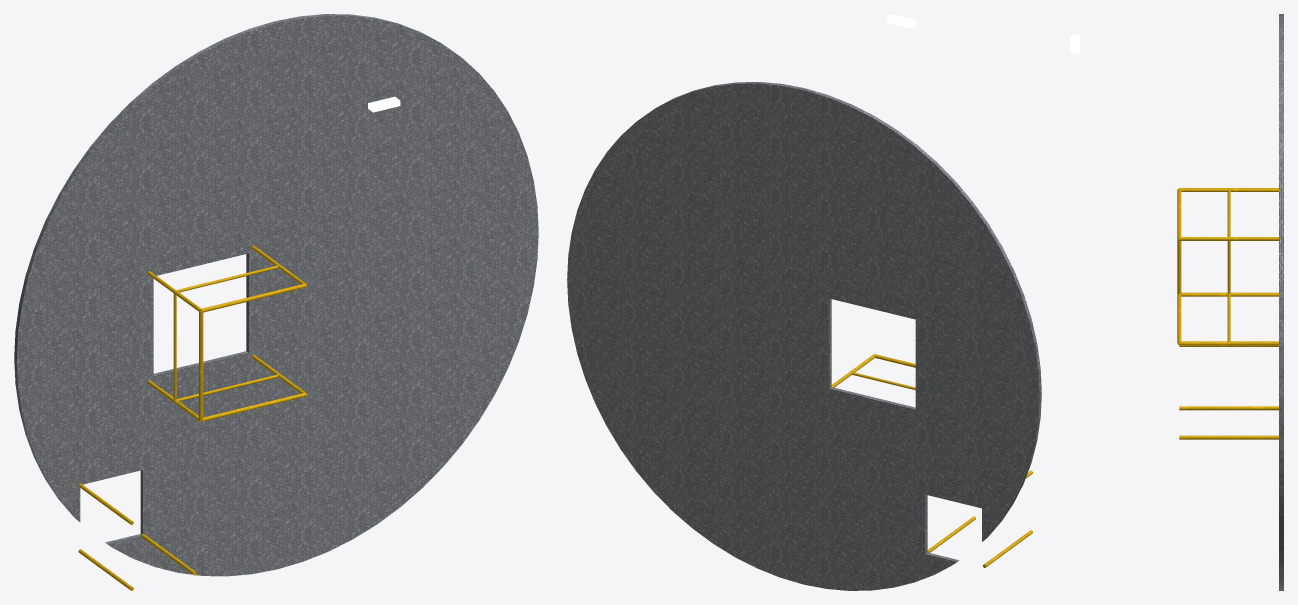
The model's file is platform_1.glb.
3 renders of one model, left to right at view 1: azimuth 30°, elevation 25°; view 2: azimuth 150°, elevation 25°; view 3: azimuth 270°, elevation 25°, orthographic. The views are drawn at different scales.
Parts seen in each view (by area): view 1: platform_1; view 2: platform_1; view 3: platform_1.
Part boxes in pixels (box(x1,y1,x2,y2)): platform_1: box(14, 14, 538, 590); platform_1: box(567, 14, 1041, 590); platform_1: box(1070, 14, 1283, 590).
Size of the model in its own units: 5.81 by 5.81 by 2.15.
3 materials, 2 textured.
